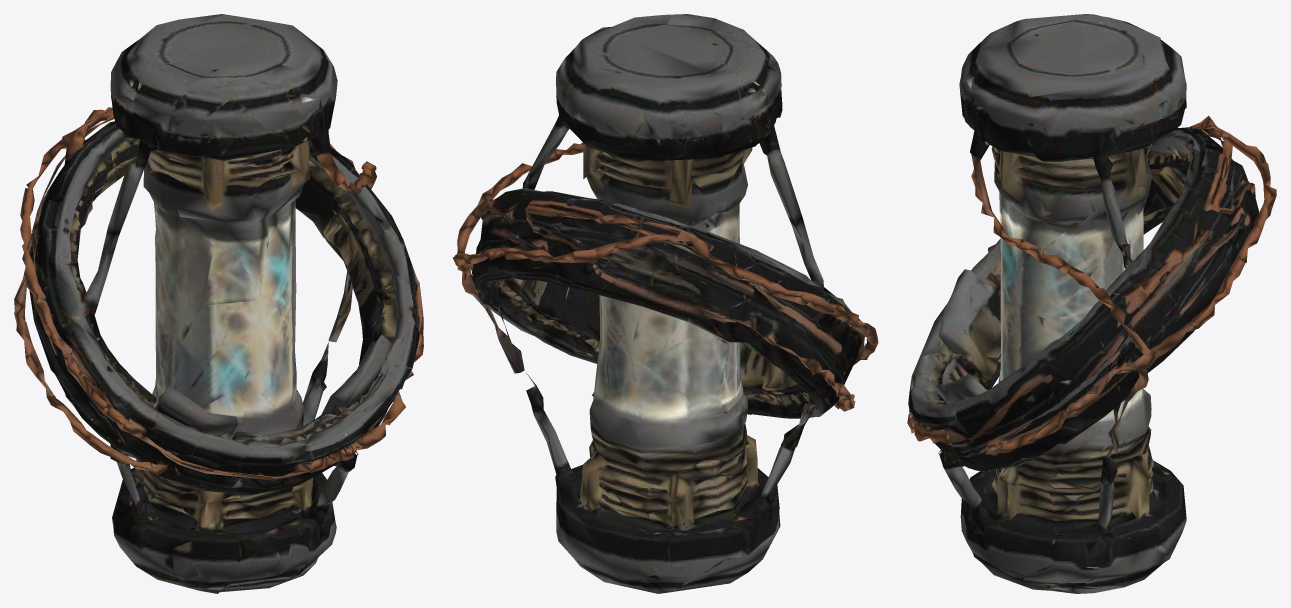
File: power-core.glb
3 views of the same model, side by side, from view 1: azimuth 30°, elevation 25°; view 2: azimuth 150°, elevation 25°; view 3: azimuth 270°, elevation 25° (orthographic).
Size of the model in its own units: 0.7677 by 1 by 0.6582.
1 material, 1 textured.
